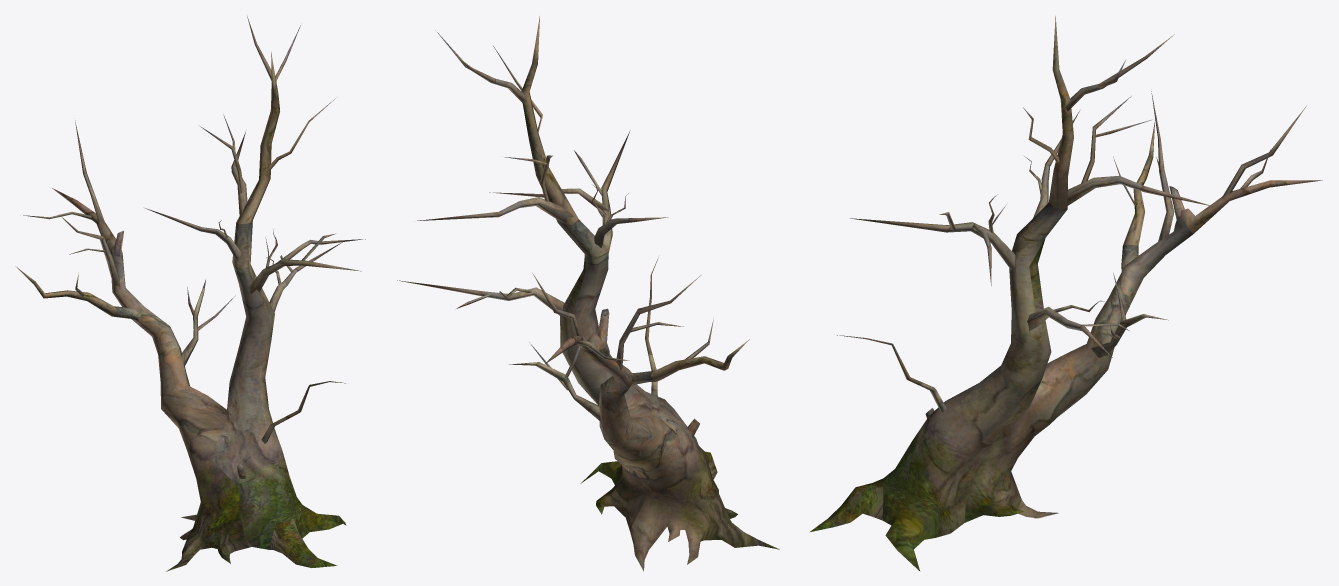
File: shi_gan_09.FBX
The picture shows the model from 3 angles, left to right: view 1: azimuth 30°, elevation 25°; view 2: azimuth 150°, elevation 25°; view 3: azimuth 270°, elevation 25°; orthographic projection. The views are drawn at different scales.
Parts seen in each view (by area): view 1: shi_gan_10; view 2: shi_gan_10; view 3: shi_gan_10.
Boxes of the visible parts, x1,y1,x2,y2 form: shi_gan_10: [15, 16, 365, 571]; shi_gan_10: [397, 16, 779, 571]; shi_gan_10: [809, 16, 1322, 571].
Bounding box in the file's own units: 41.31 × 56.24 × 47.28.
